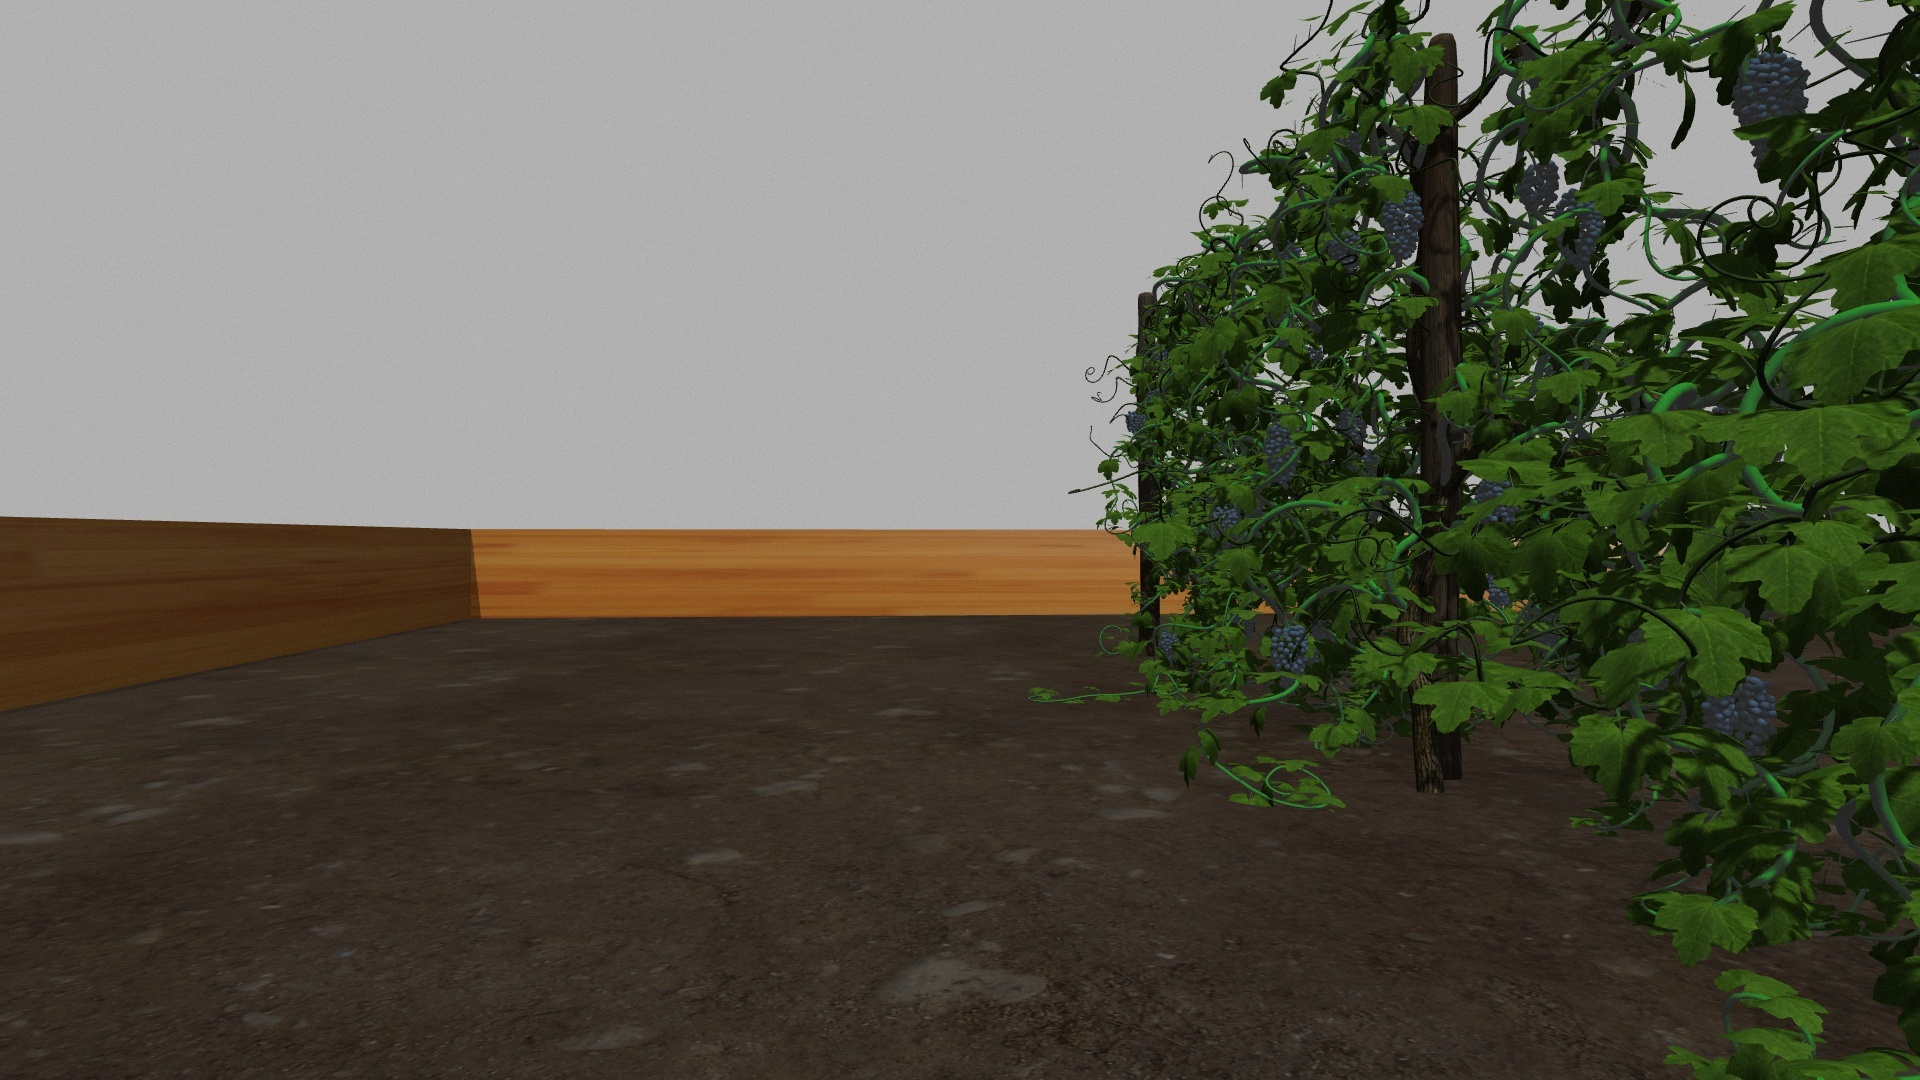grape: (1730, 54, 1809, 156), (1552, 189, 1601, 268), (1379, 193, 1425, 266), (1735, 678, 1778, 749), (1520, 160, 1561, 218), (1265, 425, 1298, 487), (1273, 626, 1309, 680), (1701, 692, 1737, 741), (1327, 229, 1362, 272), (1158, 632, 1182, 662), (1124, 407, 1149, 434), (1212, 505, 1240, 527)
